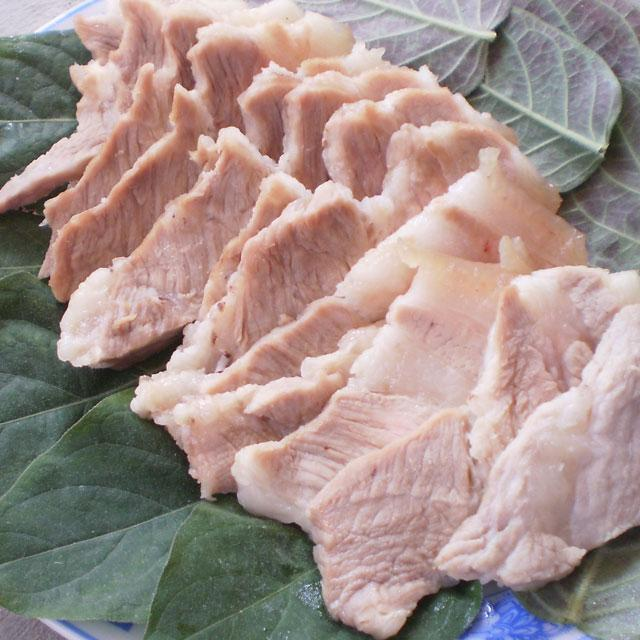thit heo: (123, 114, 570, 437), (305, 255, 640, 640), (180, 136, 597, 435), (50, 38, 410, 379), (224, 248, 583, 566), (46, 4, 359, 314), (184, 82, 526, 344), (187, 56, 457, 334), (29, 0, 263, 287), (428, 295, 640, 600), (0, 0, 256, 224), (168, 307, 410, 515)
